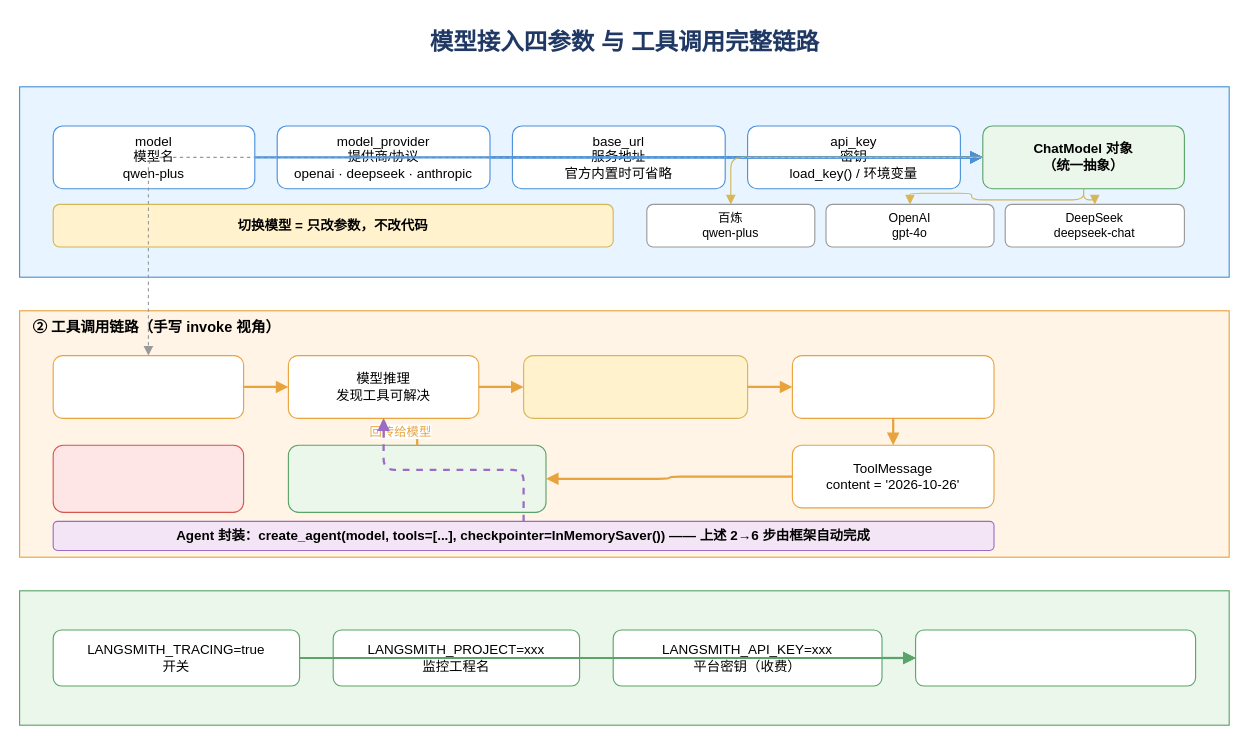
Some shapes in this 1249 by 745 pixel diagram are drawn without their labels. Each missing label, with the box of its shape:
AIMessage #1 content = 空 tool_calls = [get_current_date]: (522, 354, 748, 418)
AIMessage #2 content = '今天是 2026-10-26' 最终答案: (287, 444, 546, 512)
HumanMessage '今天几月几号？': (52, 354, 244, 418)
① 统一模型接入：init_chat_model(model, model_provider, base_url, api_key): (18, 86, 1229, 277)
③ 可观测：LangSmith 三个环境变量 → 零开发接入: (18, 590, 1229, 725)
平台面板 Traces · Datasets · Evaluations （数据有几十秒延迟）: (914, 629, 1196, 686)
执行工具函数 @tool get_current_date(): (791, 354, 994, 418)
注意：第一次 AIMessage 的 content 为空不是模型坏了 —— 它把直接回答换成了请求调用工具: (52, 444, 244, 512)
